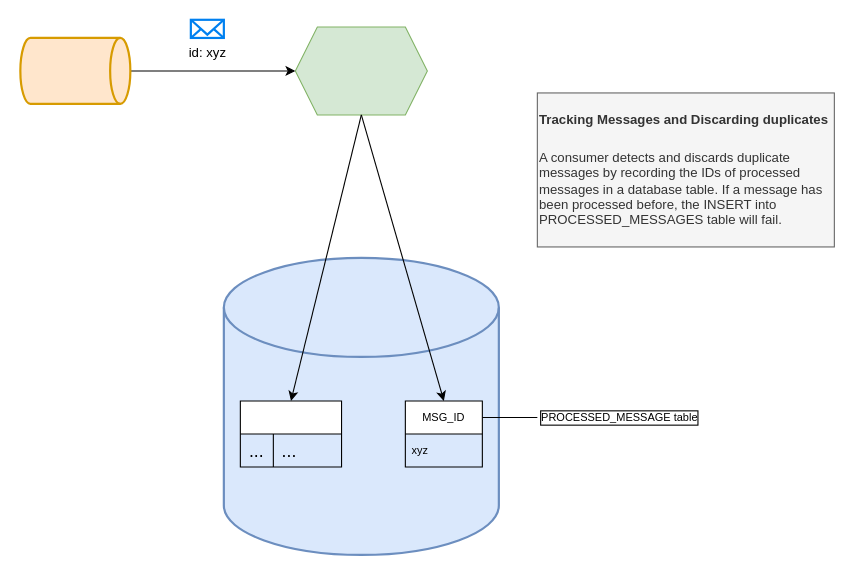
This 854x575 diagram has some shape labels left out. Here are the shapes that lost their labels. From the top down, the box of each, then its label:
(294, 26, 427, 115): Assessment Service
(239, 400, 342, 467): assessments
